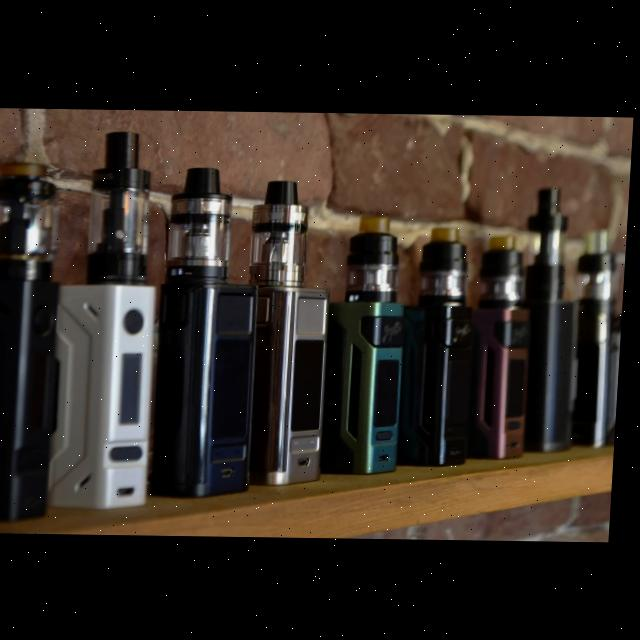vape: (54, 129, 171, 510), (155, 165, 270, 498), (241, 178, 340, 485), (0, 161, 70, 522), (326, 212, 414, 473), (401, 224, 483, 465), (519, 183, 588, 452), (473, 232, 539, 458), (574, 226, 630, 446)
